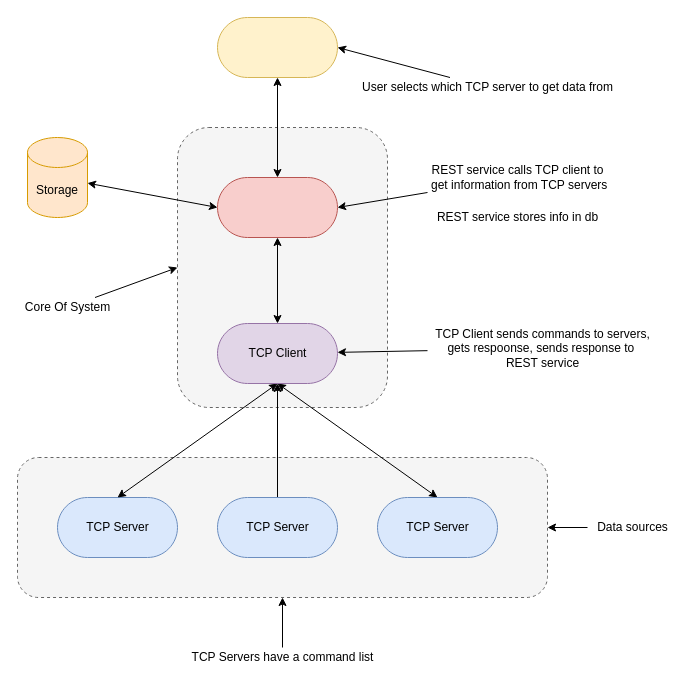
Image size: 695x685. Some labels were removed from this diagram. The shapes that lost their labels are listed below. From the top down, each one's centre as x and y in pixels, then its label:
the point at 277,47: UI
the point at 277,207: REST Service
